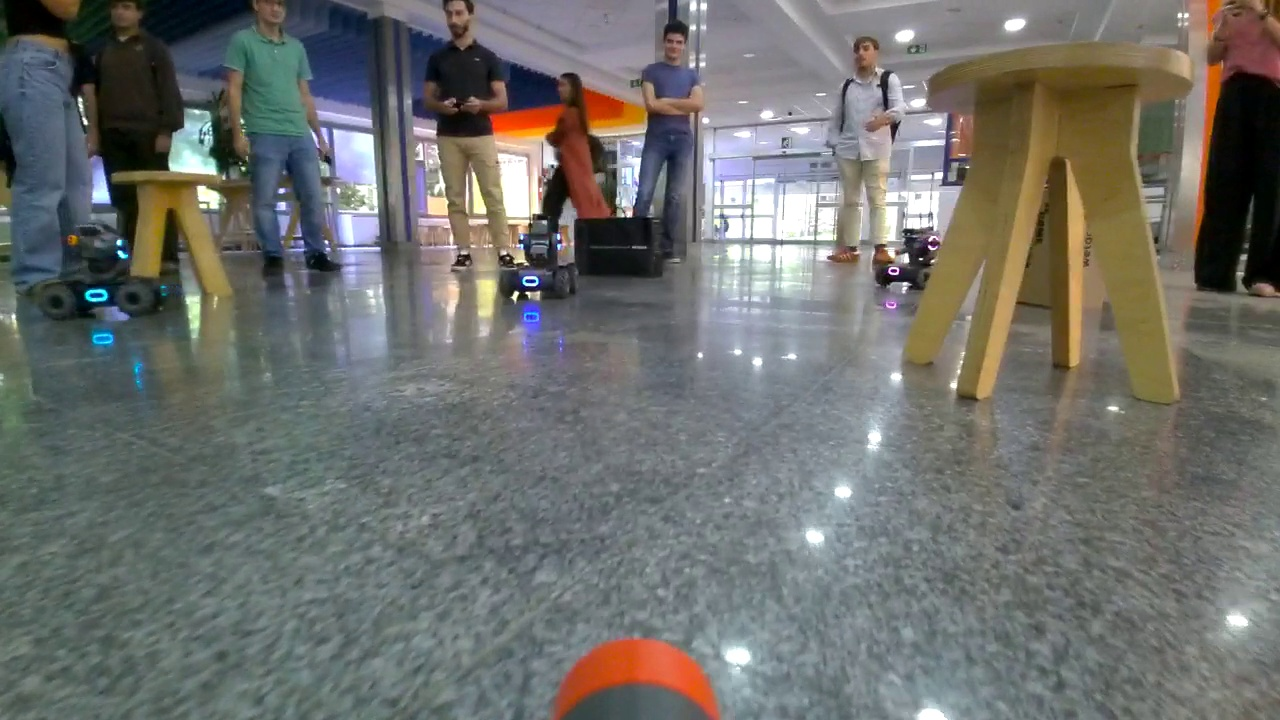robot: (35, 226, 166, 326), (497, 230, 577, 304), (879, 226, 937, 292)
